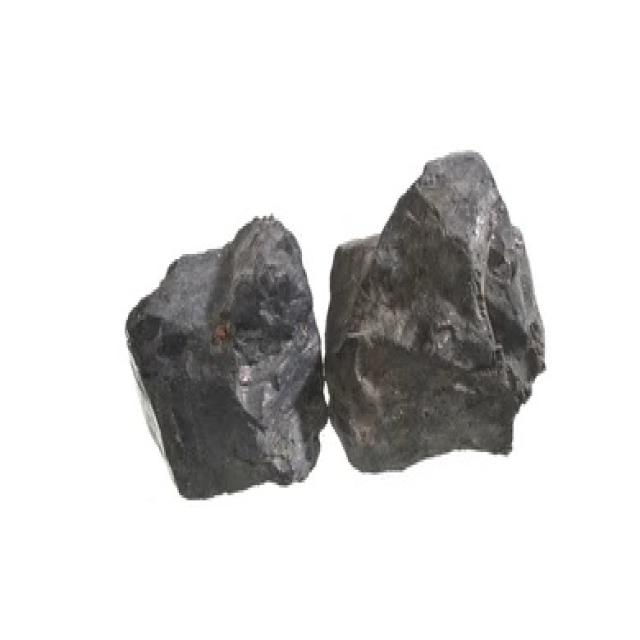Sedimentary: (323, 150, 548, 490), (125, 205, 333, 520)
